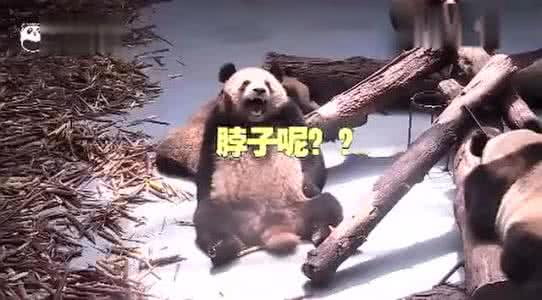panda: (180, 58, 347, 266)
